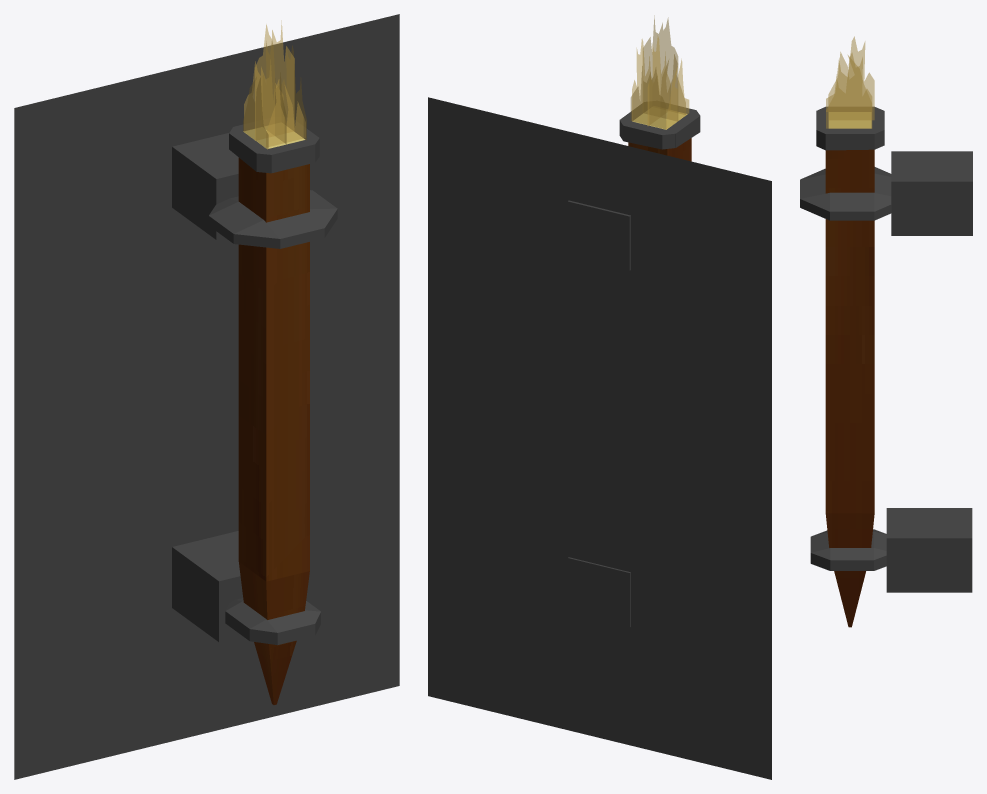
File: Walltorch.glb
3 renders of one model, left to right at view 1: azimuth 30°, elevation 25°; view 2: azimuth 150°, elevation 25°; view 3: azimuth 270°, elevation 25°, orthographic. The views are drawn at different scales.
Visible parts, largest first — view 1: Plane.014; view 2: Plane.014; view 3: Plane.014.
Part boxes in pixels (bbox=[...]): Plane.014: bbox=[14, 14, 399, 779]; Plane.014: bbox=[428, 15, 771, 779]; Plane.014: bbox=[800, 36, 972, 627].
Bounding box in the file's own units: 0.2016 × 0.3805 × 0.0879.
4 materials, 1 textured.
